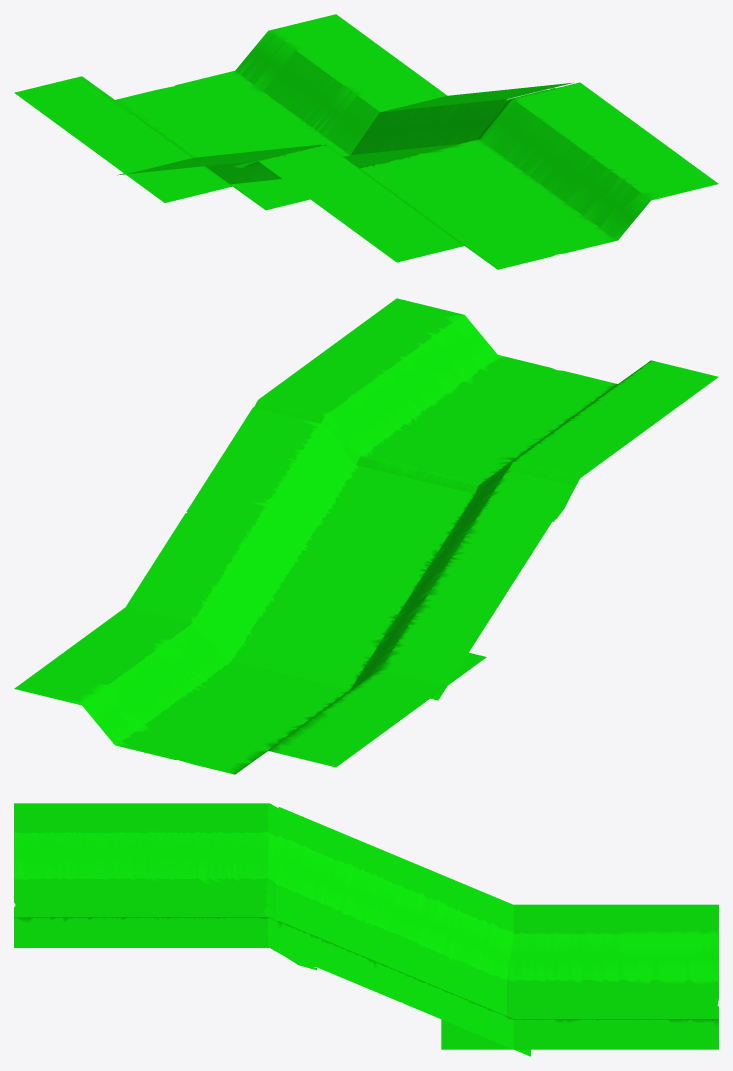
File: MyStage3.fbx
3 renders of one model, top to bottom at view 1: azimuth 30°, elevation 25°; view 2: azimuth 150°, elevation 25°; view 3: azimuth 270°, elevation 25°, orthographic. The views are drawn at different scales.
Parts seen in each view (by area): view 1: pPlane4; view 2: pPlane4; view 3: pPlane4.
Boxes of the visible parts, left/top/right/bottom form: pPlane4: left=14, top=14, right=718, bottom=269; pPlane4: left=14, top=298, right=718, bottom=774; pPlane4: left=14, top=803, right=718, bottom=1056.
Bounding box in the file's own units: 617 × 269 × 1269.
